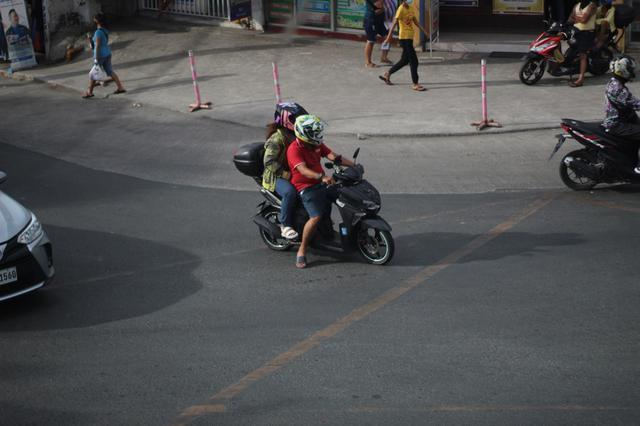helmet: (608, 50, 640, 88), (294, 115, 325, 148)
motorcycle: (254, 101, 394, 266), (550, 57, 640, 193)
